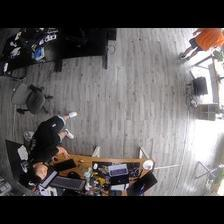normal: (26, 110, 77, 181), (180, 29, 224, 69)
